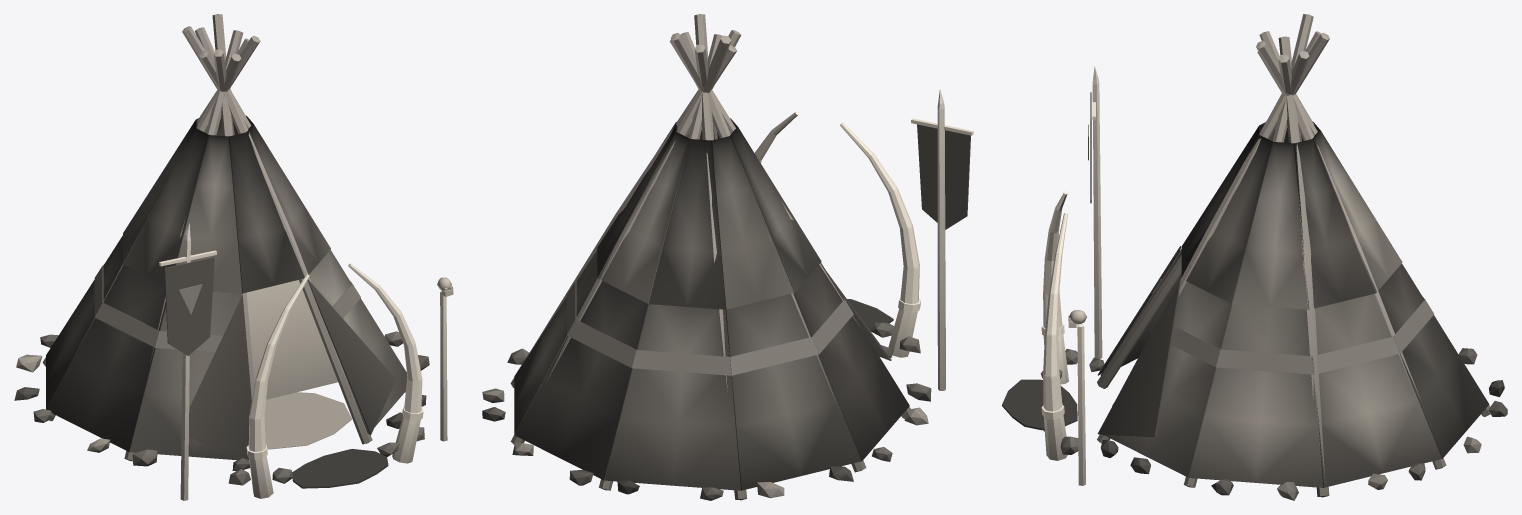
Rendered from SM_VKI_Prop_Goblin_ChiefTent.fbx.
The picture shows the model from 3 angles, left to right: view 1: azimuth 30°, elevation 25°; view 2: azimuth 150°, elevation 25°; view 3: azimuth 270°, elevation 25°; orthographic projection. The views are drawn at different scales.
Visible parts, largest first — view 1: SM_VKI_Prop_Goblin_ChiefTent.001; view 2: SM_VKI_Prop_Goblin_ChiefTent.001; view 3: SM_VKI_Prop_Goblin_ChiefTent.001.
Boxes of the visible parts, box(x1,y1,x2,y2) form: SM_VKI_Prop_Goblin_ChiefTent.001: box(14, 14, 453, 500); SM_VKI_Prop_Goblin_ChiefTent.001: box(482, 14, 973, 500); SM_VKI_Prop_Goblin_ChiefTent.001: box(1002, 14, 1507, 500).
Bounding box in the file's own units: 5.46 × 5.42 × 6.24.
